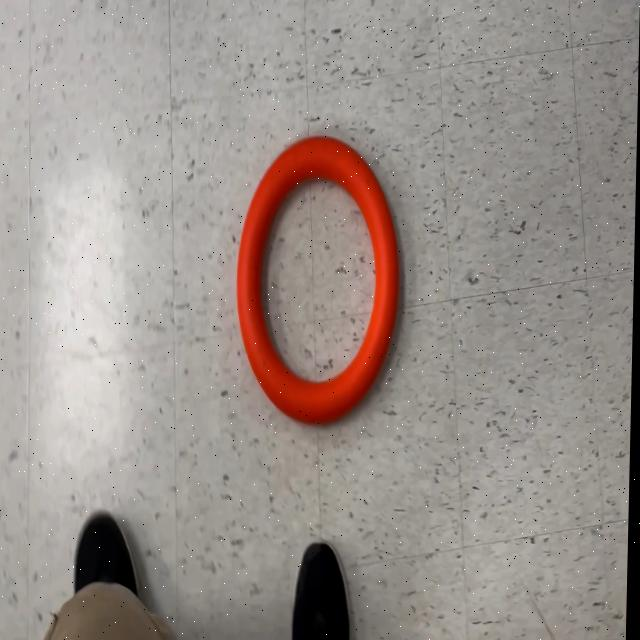note: (234, 134, 405, 428)
